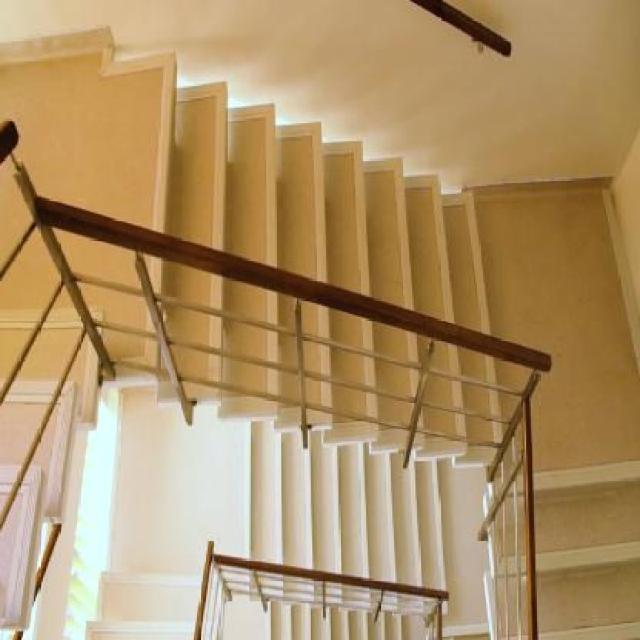stair: (0, 12, 497, 454), (248, 418, 456, 606), (479, 462, 639, 638), (58, 566, 242, 639)
